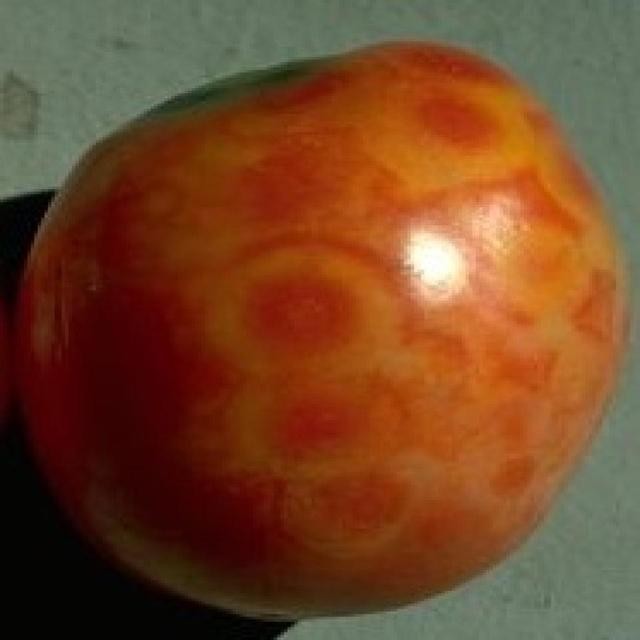Spotted wilt Virus Fruit: (10, 25, 418, 412)
